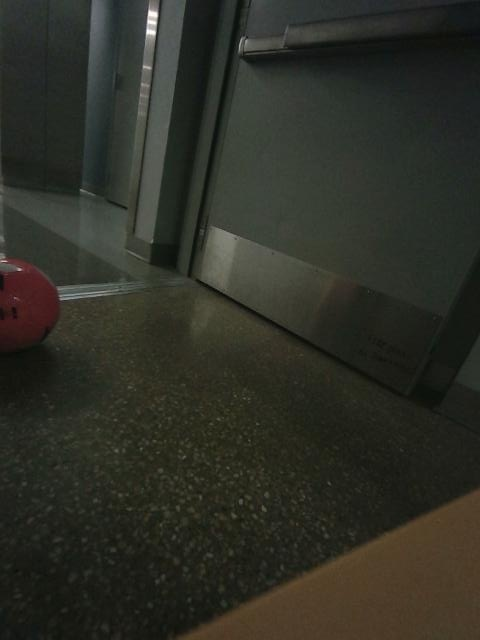ball: (0, 258, 58, 351)
